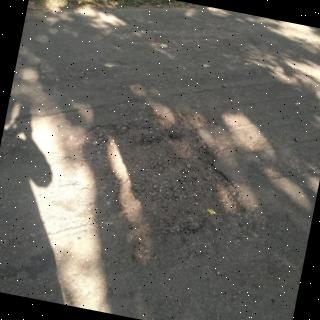pothole: (75, 118, 241, 261)
